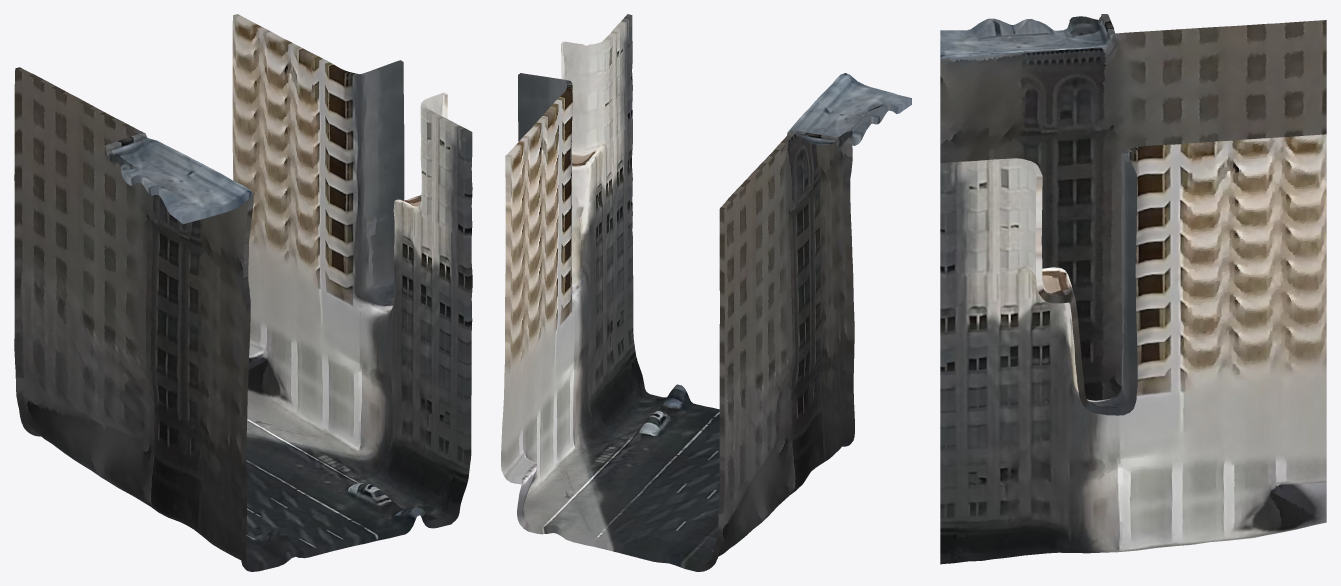
Rendered from z20-167748-405243-h0-yup-uvflip-v3-world.glb.
3 renders of one model, left to right at view 1: azimuth 30°, elevation 25°; view 2: azimuth 150°, elevation 25°; view 3: azimuth 270°, elevation 25°, orthographic. The views are drawn at different scales.
Size of the model in its own units: 30.16 by 36.12 by 30.32.
Materials: 1 (1 with a texture image).
